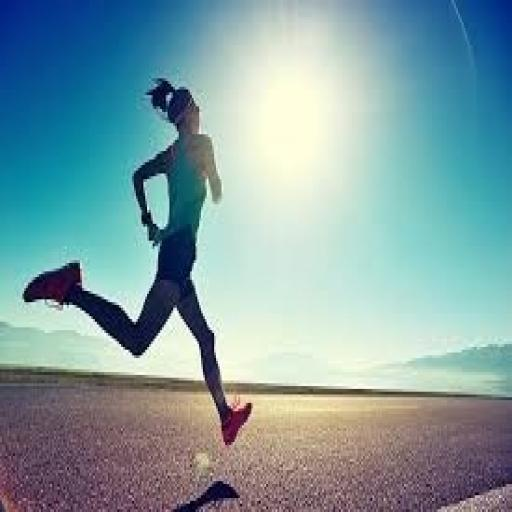running: (21, 73, 255, 450)
